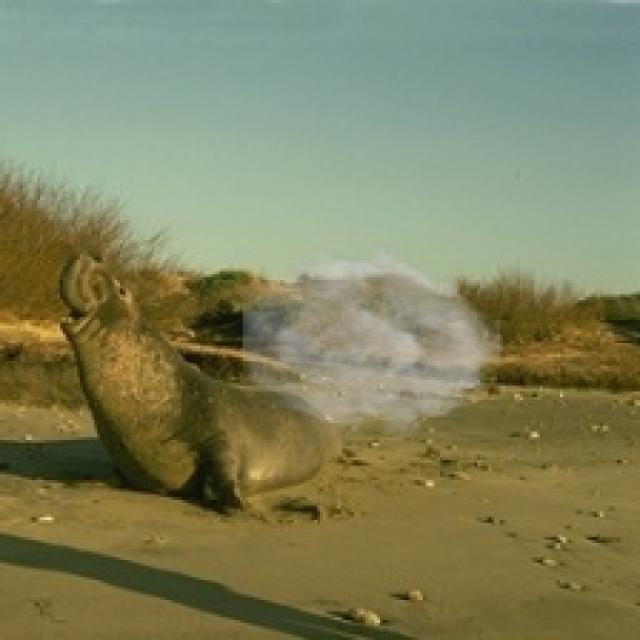Smoke: (243, 240, 500, 440)
